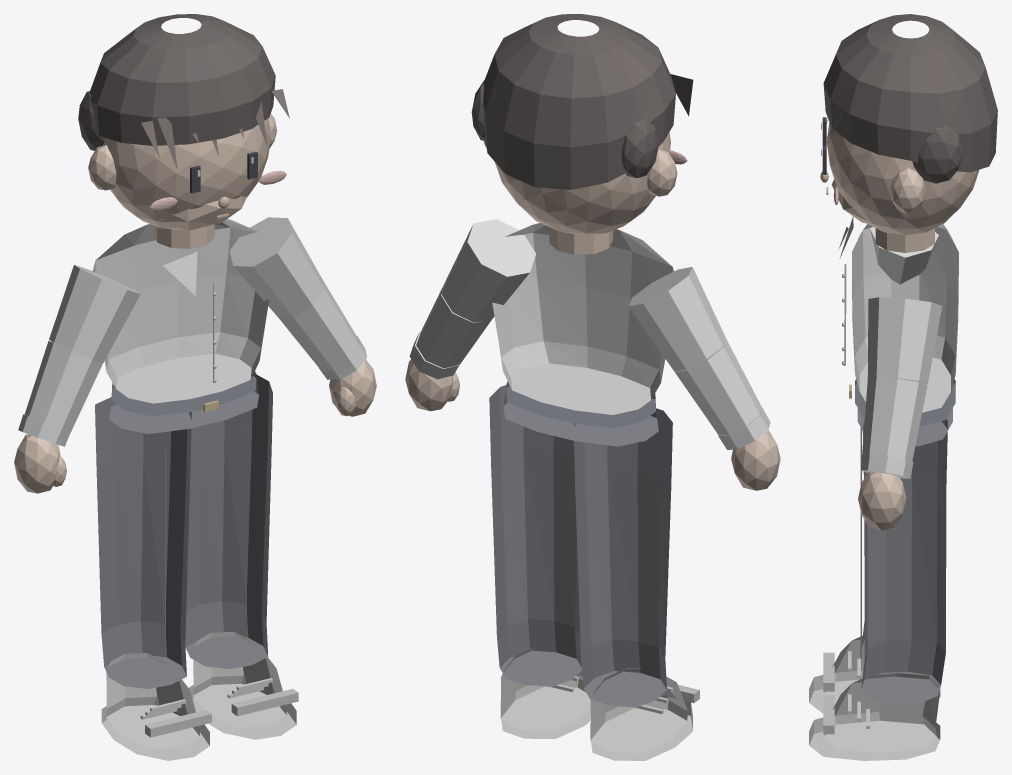
File: preset_shirt_uniform.glb
3 views of the same model, side by side, from view 1: azimuth 30°, elevation 25°; view 2: azimuth 150°, elevation 25°; view 3: azimuth 270°, elevation 25° (orthographic). The views are drawn at different scales.
Parts seen in each view (by area): view 1: preset_shirt_uniform_merged; view 2: preset_shirt_uniform_merged; view 3: preset_shirt_uniform_merged.
Part boxes in pixels (left/top/right/bottom): preset_shirt_uniform_merged: left=14, top=14, right=376, bottom=760; preset_shirt_uniform_merged: left=405, top=14, right=780, bottom=760; preset_shirt_uniform_merged: left=809, top=14, right=997, bottom=760.
Bounding box in the file's own units: 0.772 × 1.43 × 0.3508.
